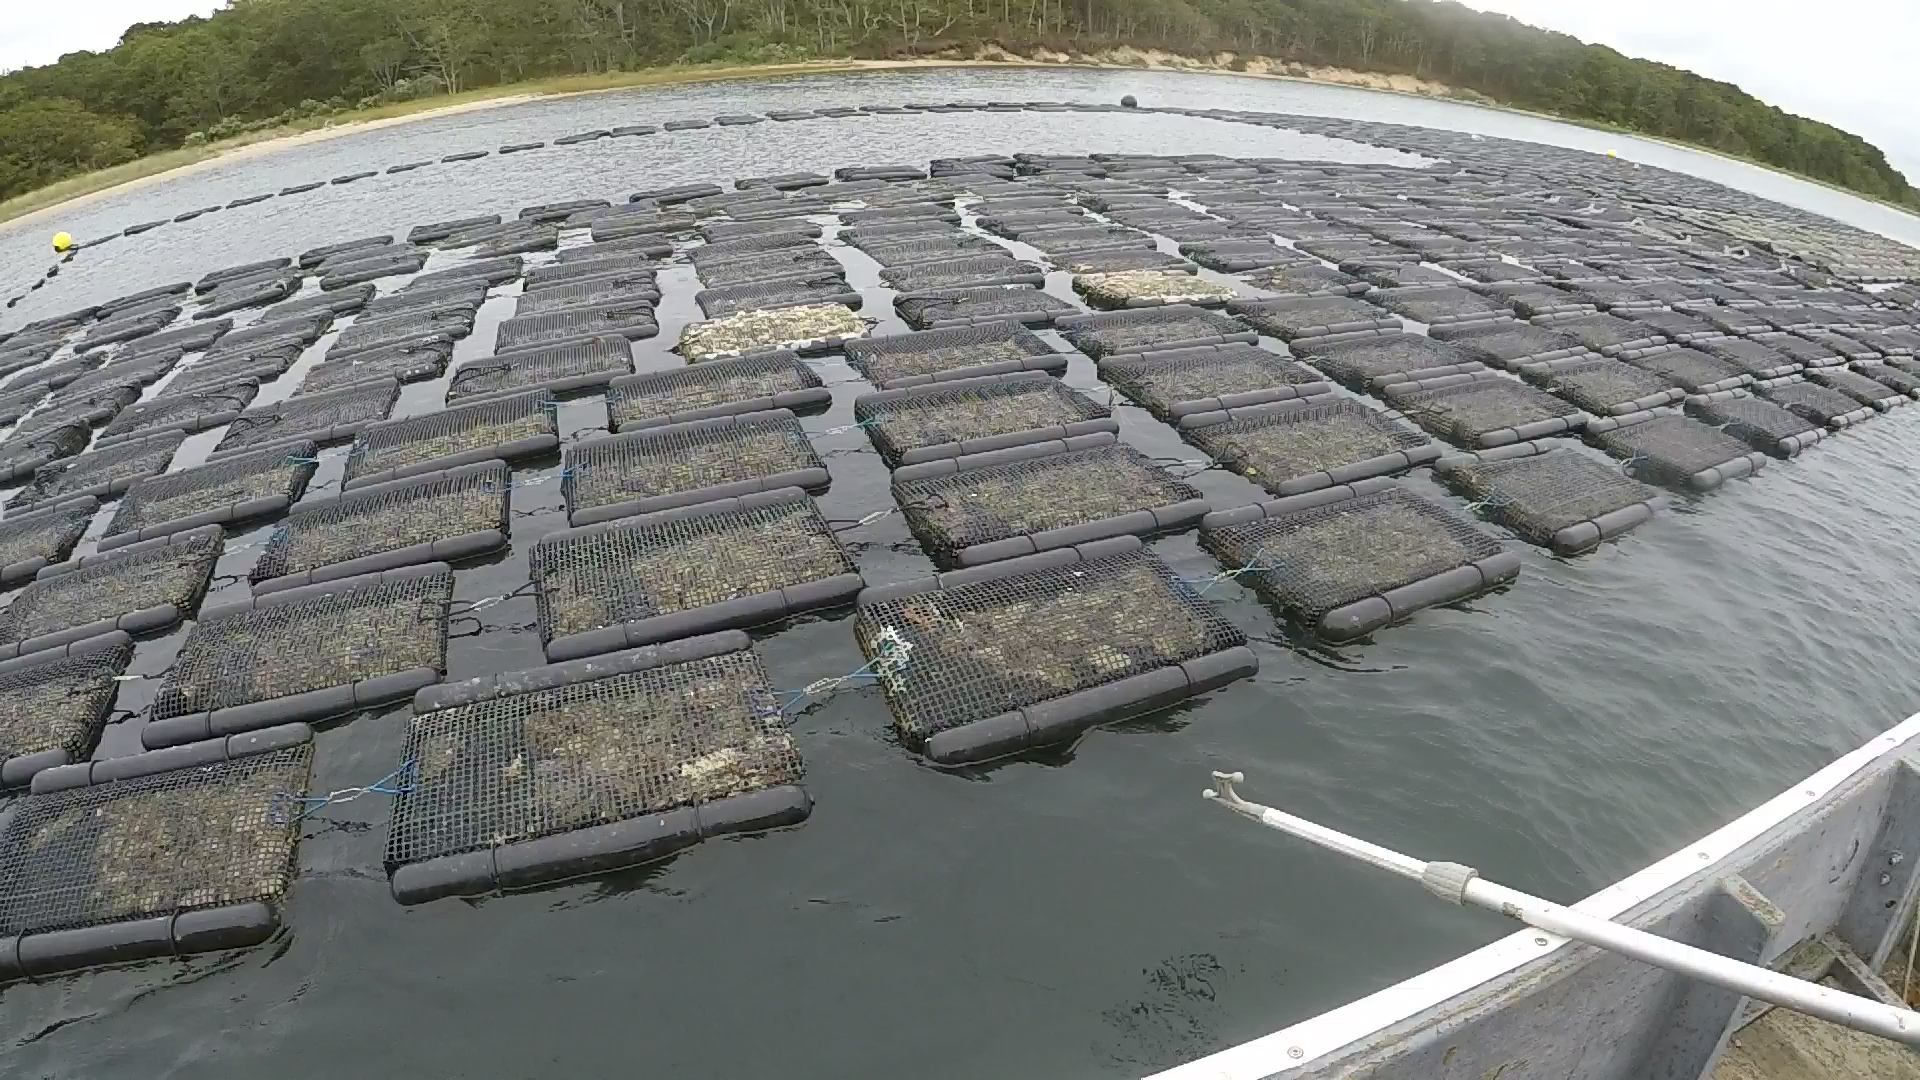bag: (402, 626, 814, 895), (852, 529, 1261, 769)
